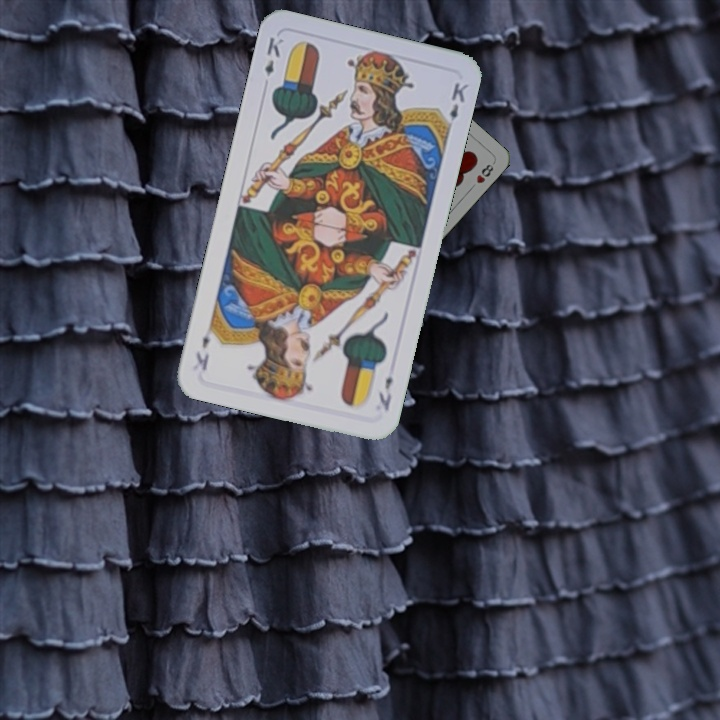EK: (260, 33, 286, 79), (374, 372, 396, 414)
